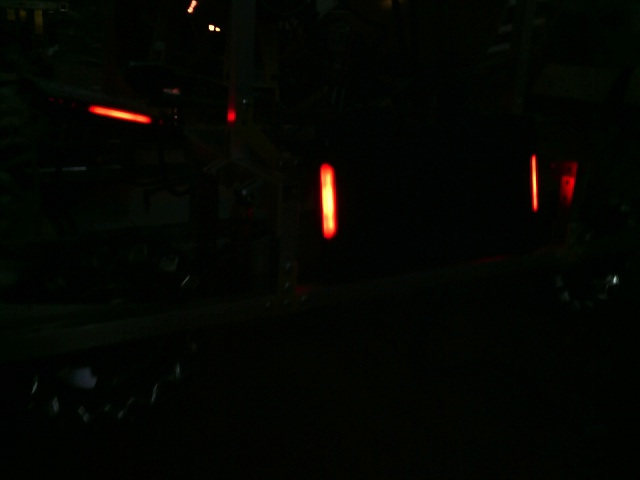lamp: (314, 163, 342, 239)
